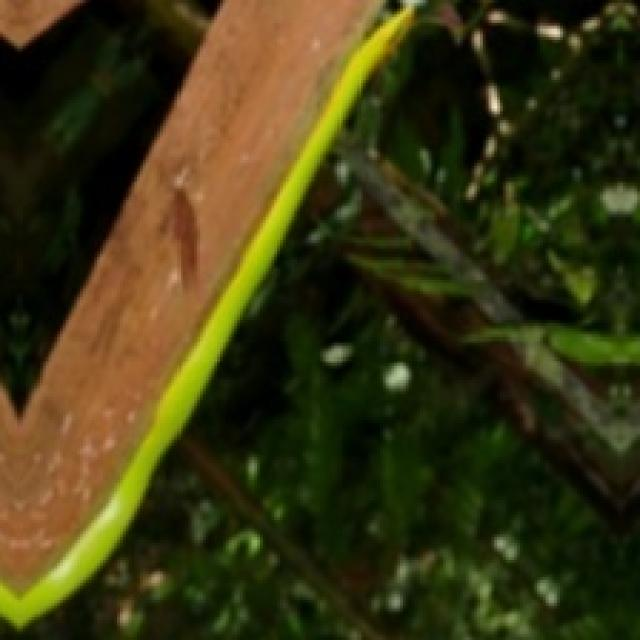red-tailed green ratsnake: (0, 10, 412, 624)
